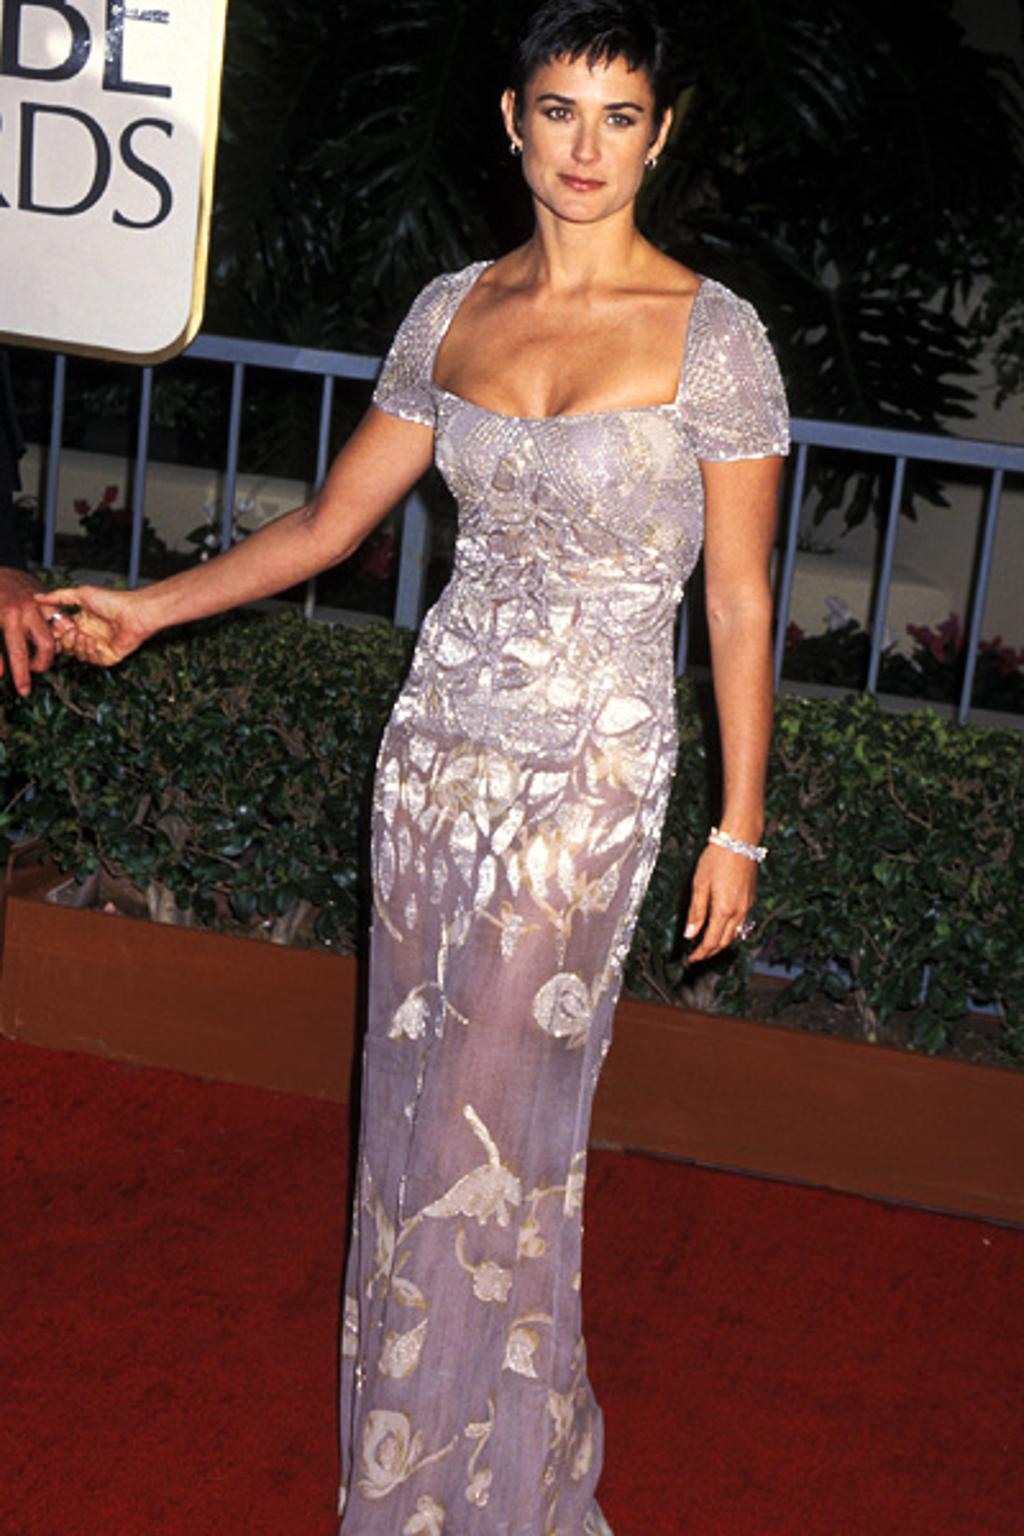face: (532, 51, 649, 234)
